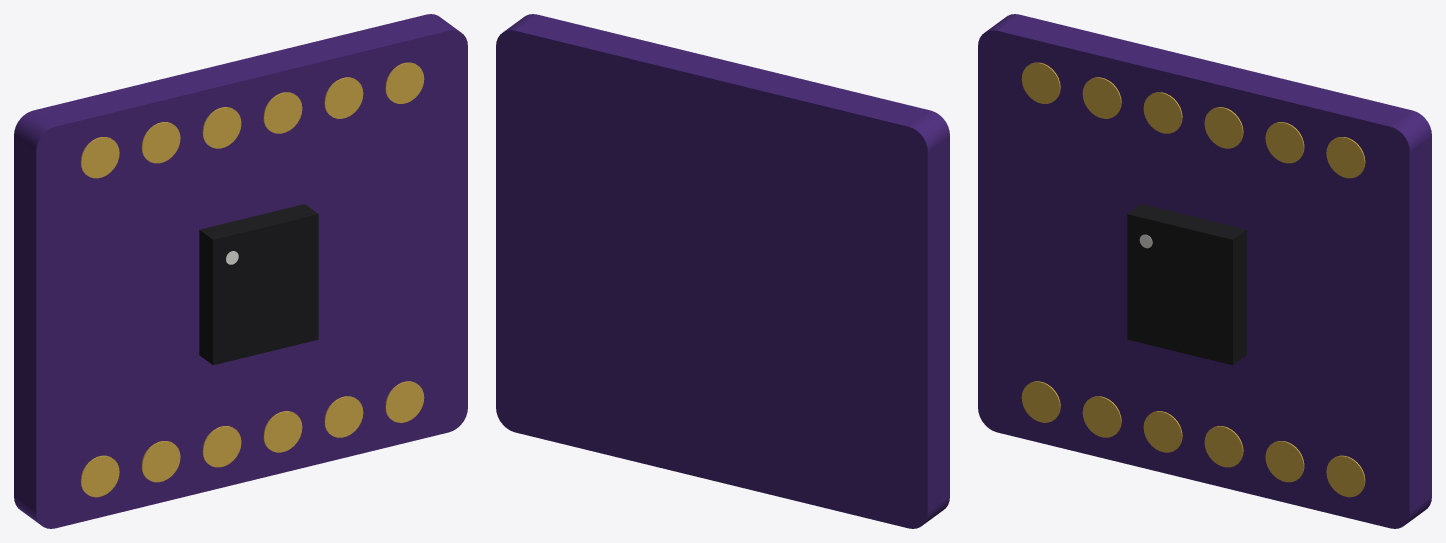
Rendered from drv8833-driver.glb.
3 renders of one model, left to right at view 1: azimuth 30°, elevation 25°; view 2: azimuth 150°, elevation 25°; view 3: azimuth 330°, elevation 25°, orthographic.
Parts seen in each view (by area): view 1: board, chip_1, pads_2_1, pads_3_4, pads_3_5, pads_2_6, pads_3_1, pads_3_3, pads_2_2, pads_2_3, pads_2_4, pads_2_5 (+2 smaller); view 2: board; view 3: board, chip_1, pads_2_6, pads_3_2, pads_3_3, pads_2_1, pads_3_4, pads_3_6, pads_2_2, pads_2_3, pads_2_4, pads_2_5 (+2 smaller).
Boxes of the visible parts, left/top/right/bottom form: board: left=14, top=14, right=467, bottom=528; chip_1: left=199, top=204, right=318, bottom=365; pads_2_1: left=80, top=455, right=119, bottom=497; pads_3_4: left=263, top=92, right=302, bottom=133; pads_3_5: left=324, top=77, right=363, bottom=118; pads_2_6: left=385, top=381, right=424, bottom=422; pads_3_1: left=80, top=137, right=119, bottom=178; pads_3_3: left=202, top=107, right=241, bottom=148; pads_2_2: left=141, top=441, right=180, bottom=482; pads_2_3: left=202, top=426, right=241, bottom=467; pads_2_4: left=263, top=411, right=302, bottom=452; pads_2_5: left=324, top=396, right=363, bottom=437; board: left=496, top=14, right=949, bottom=528; board: left=978, top=14, right=1431, bottom=528; chip_1: left=1127, top=204, right=1246, bottom=365; pads_2_6: left=1326, top=455, right=1365, bottom=497; pads_3_2: left=1082, top=77, right=1121, bottom=118; pads_3_3: left=1143, top=92, right=1182, bottom=133; pads_2_1: left=1021, top=381, right=1060, bottom=422; pads_3_4: left=1204, top=107, right=1243, bottom=148; pads_3_6: left=1326, top=137, right=1365, bottom=178; pads_2_2: left=1082, top=396, right=1121, bottom=437; pads_2_3: left=1143, top=411, right=1182, bottom=452; pads_2_4: left=1204, top=426, right=1243, bottom=467; pads_2_5: left=1265, top=441, right=1304, bottom=482.
Bounding box in the file's own units: 18 × 16 × 2.62.
